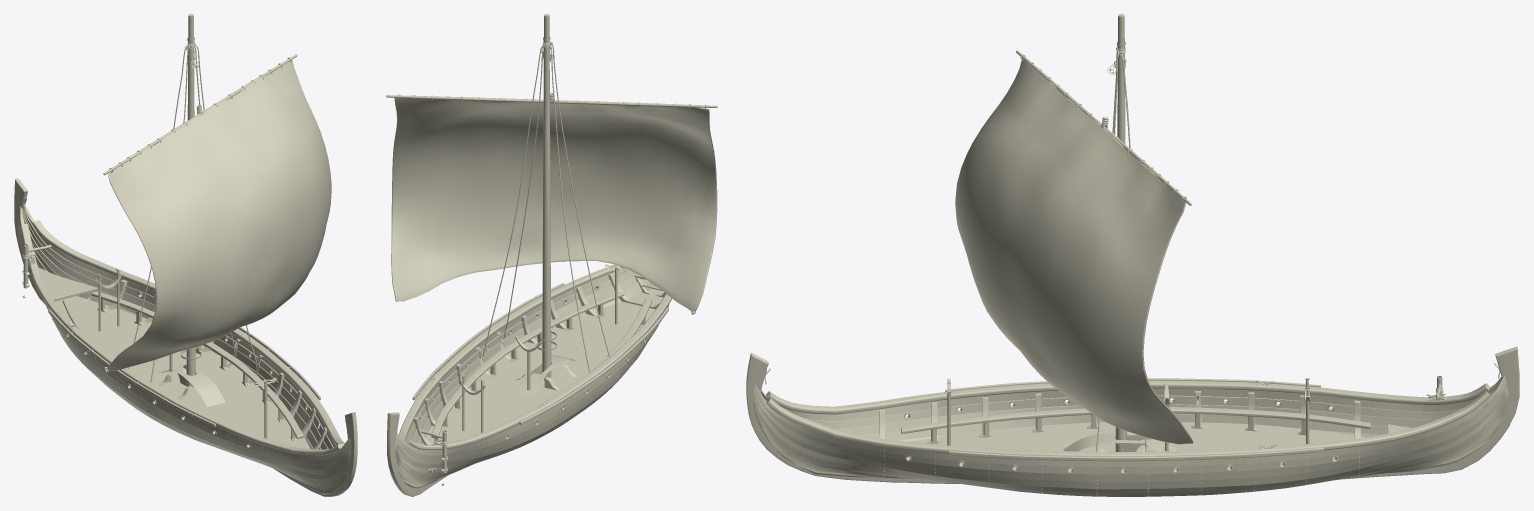
The model's file is drakar.glb.
3 views of the same model, side by side, from view 1: azimuth 30°, elevation 25°; view 2: azimuth 150°, elevation 25°; view 3: azimuth 270°, elevation 25° (orthographic). The views are drawn at different scales.
Visible parts, largest first — view 1: Object_21.001; view 2: Object_21.001; view 3: Object_21.001.
Part boxes in pixels (bbox=[...]): Object_21.001: bbox=[14, 14, 357, 496]; Object_21.001: bbox=[386, 14, 717, 496]; Object_21.001: bbox=[746, 14, 1519, 496].
Bounding box in the file's own units: 8.39 × 11.3 × 16.94.
